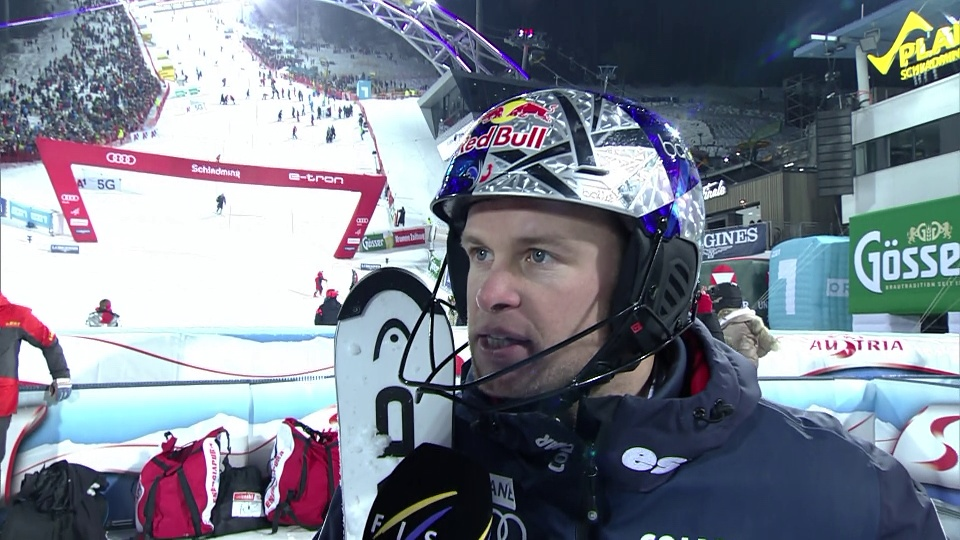audi: (103, 149, 140, 171)
etron: (288, 170, 352, 187)
goesser: (850, 201, 959, 296)
longines: (698, 227, 766, 256)
redbull: (450, 89, 558, 164)
schladming: (189, 157, 246, 181)
